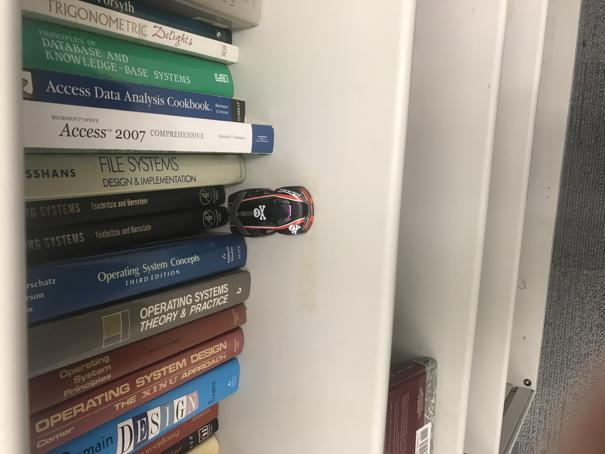Skull: (229, 185, 315, 239)
